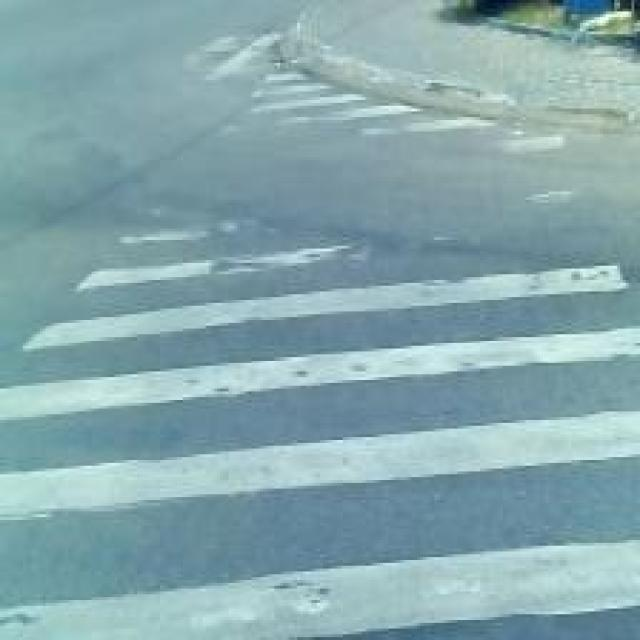zebra: (144, 204, 616, 613)
